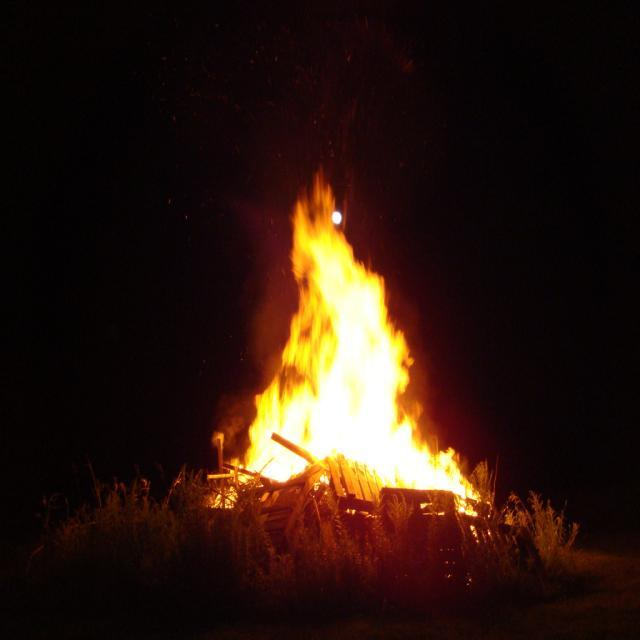Fire: (332, 278, 388, 404), (281, 406, 400, 462)
